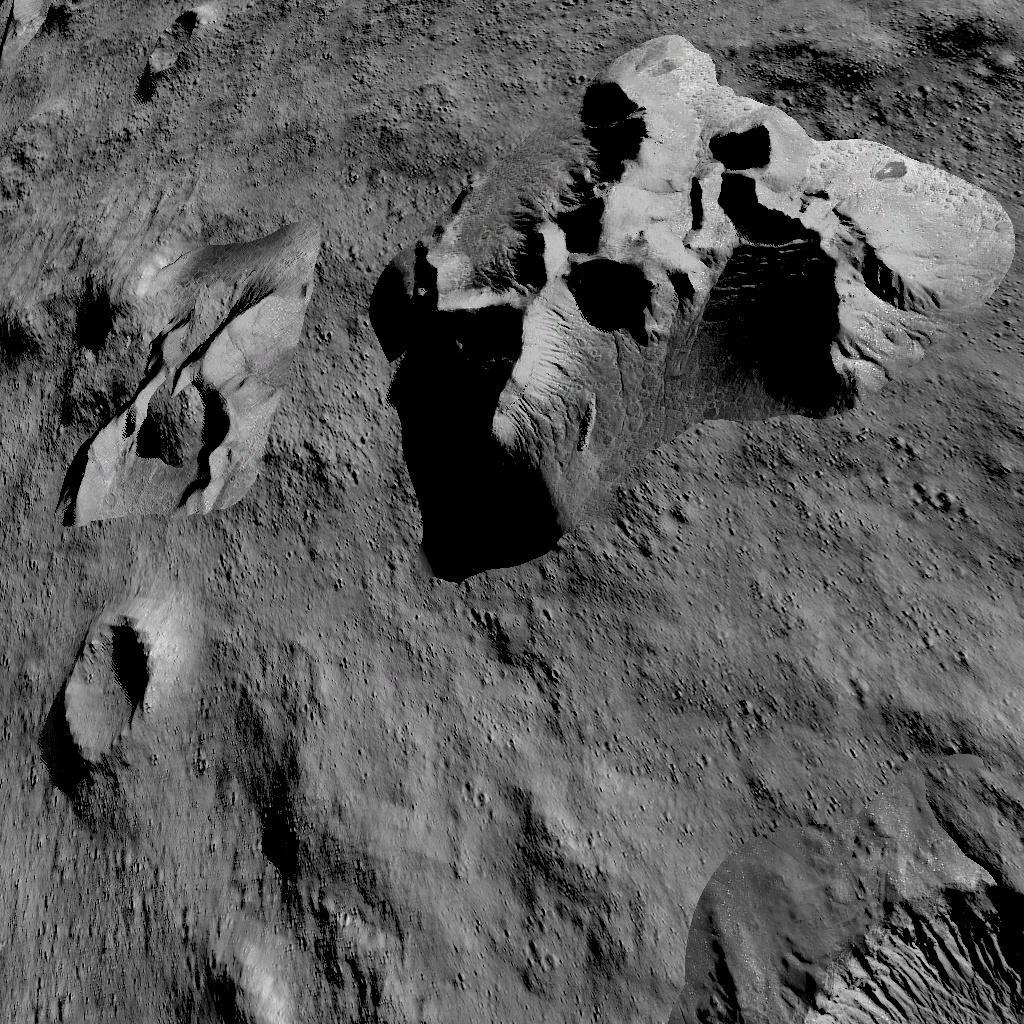Boulders: (366, 28, 1018, 580)
Crater: (1, 260, 289, 533), (755, 860, 1024, 1024), (32, 594, 184, 814), (0, 0, 113, 82), (140, 0, 226, 85)
Plan surface: (216, 601, 721, 1024), (748, 608, 1024, 822), (7, 106, 328, 245)
